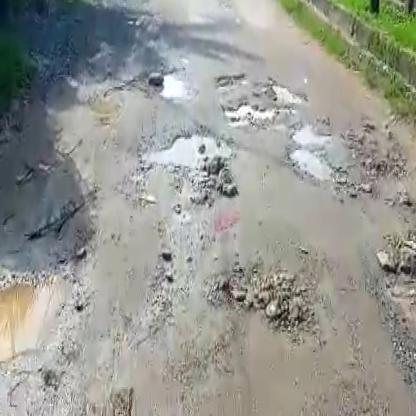pothole: (0, 269, 73, 386), (136, 127, 238, 170), (216, 98, 289, 127), (288, 145, 338, 180), (146, 67, 188, 100), (291, 114, 335, 142), (267, 85, 304, 108), (209, 70, 248, 87)
